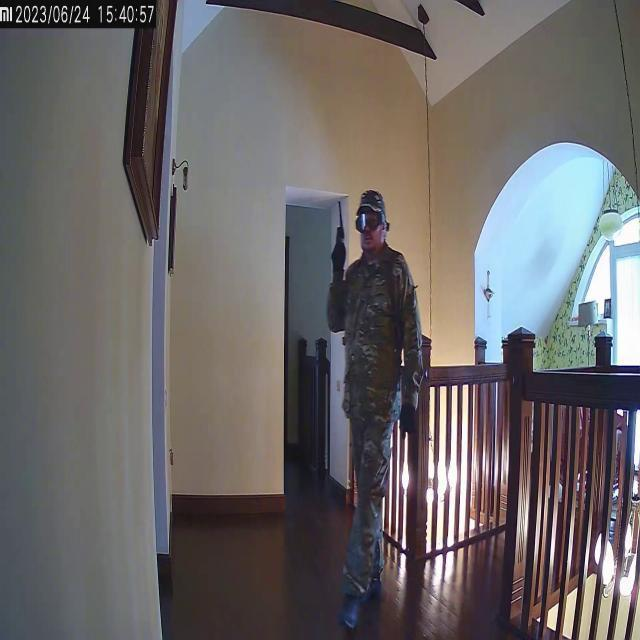pistol: (334, 199, 346, 251)
